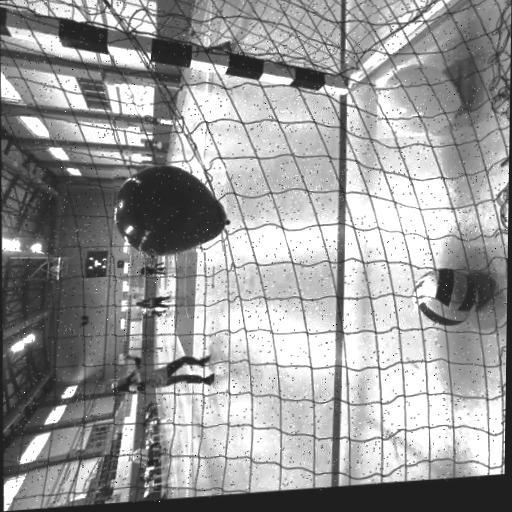balloon: (110, 159, 227, 258), (374, 60, 468, 139)
